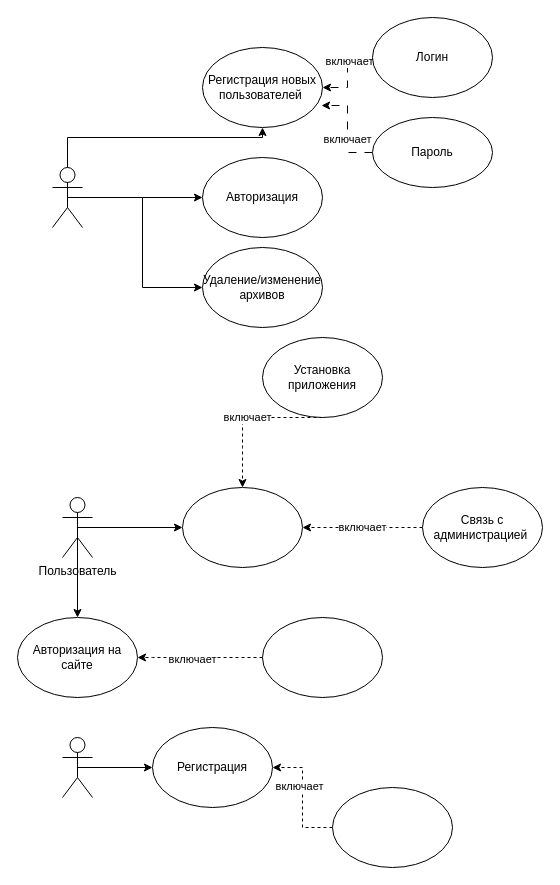
The diagram is 560 pixels wide and 885 high, and some of its shapes have lost their labels. The centre of each missing label's shape, as x and y in pixels:
"Администратор" goes at (67,197).
"Ввод данных пользователя" goes at (392,827).
"Ввод пароля и логина" goes at (322,657).
"Не авторизованный пользователь" goes at (77,767).
"Работа с приложением" goes at (242,527).
